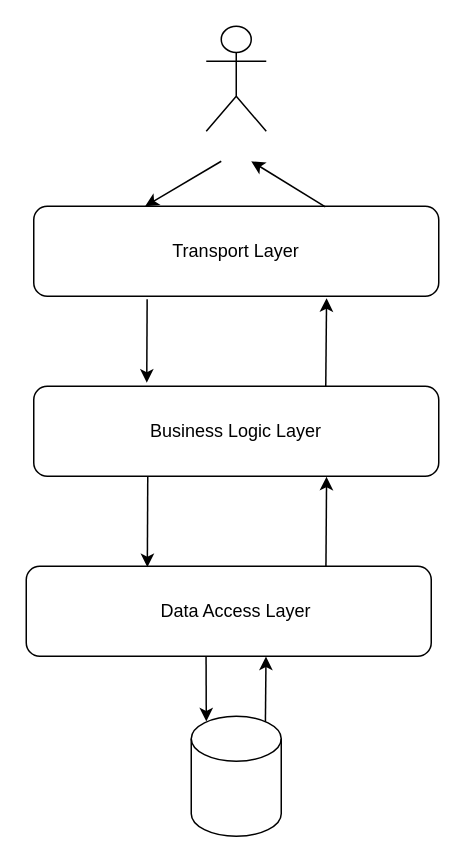
The diagram is 465 pixels wide and 863 high, and some of its shapes have lost their labels. The shapes that lost their labels are listed below. From the top down, each one's centre as x and y in pixels, then its label:
At (235,78): "User".
At (235,775): "Database".
